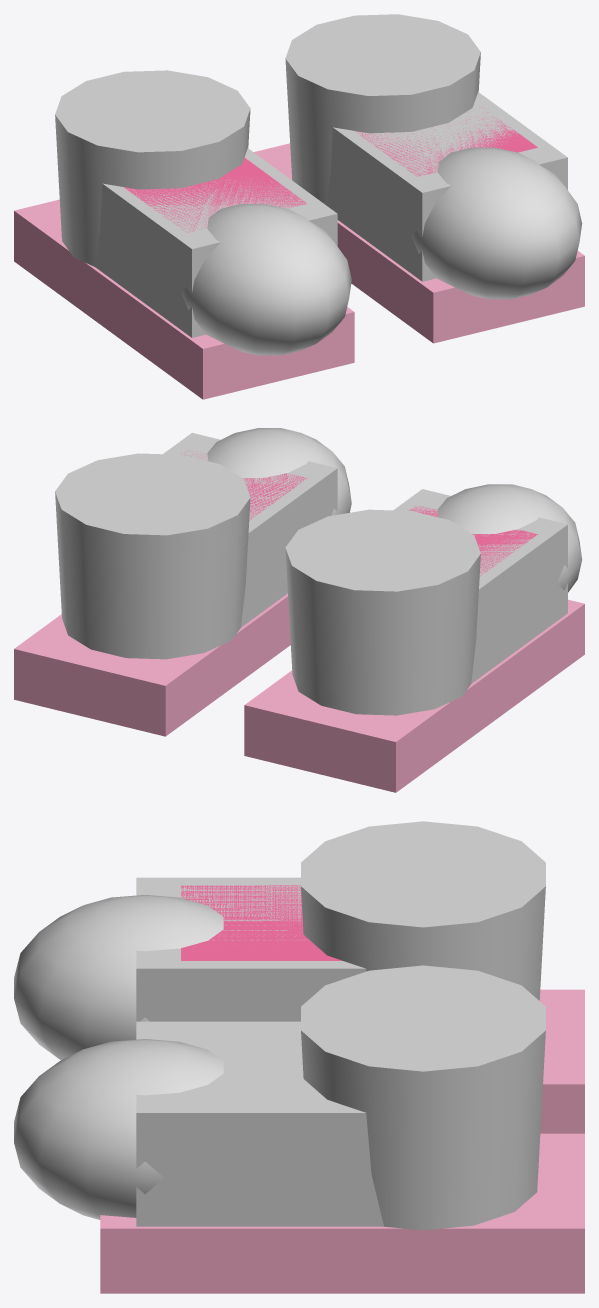
The model's file is shoes_cute_0.glb.
The picture shows the model from 3 angles, top to bottom: view 1: azimuth 30°, elevation 25°; view 2: azimuth 150°, elevation 25°; view 3: azimuth 270°, elevation 25°; orthographic projection. The views are drawn at different scales.
Size of the model in its own units: 0.33 by 0.14 by 0.3181.
